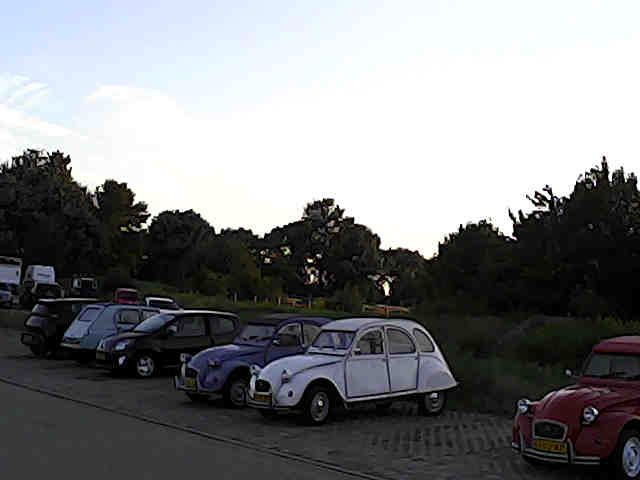suv: (247, 318, 456, 423), (512, 336, 639, 478), (174, 313, 330, 406), (96, 310, 239, 377), (60, 303, 158, 361), (21, 298, 99, 356), (19, 280, 63, 308), (0, 256, 21, 307), (70, 274, 98, 296), (143, 296, 181, 311), (0, 282, 18, 307), (113, 288, 140, 304)
whitevan: (19, 265, 65, 308), (142, 296, 181, 312), (23, 265, 55, 283), (0, 282, 18, 307)
